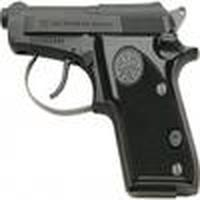gun: (1, 3, 200, 188)
